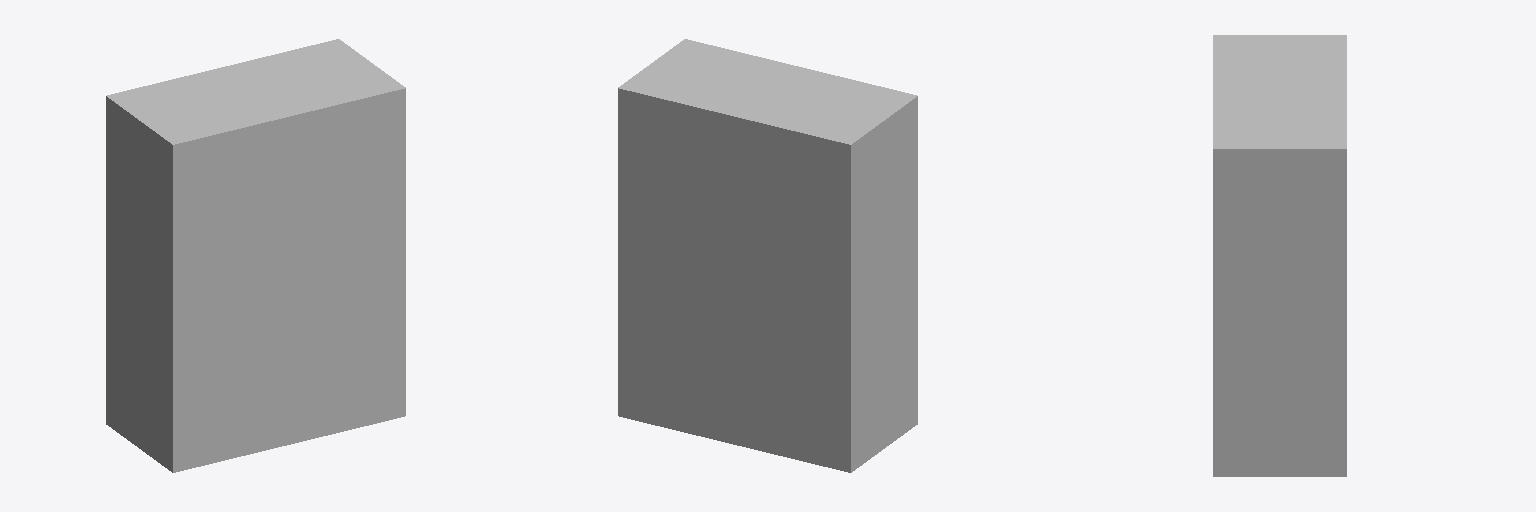
File: case_12.obj
The picture shows the model from 3 angles: view 1: azimuth 30°, elevation 25°; view 2: azimuth 150°, elevation 25°; view 3: azimuth 270°, elevation 25°; orthographic projection.
Visible parts, largest first — view 1: Untitled; view 2: Untitled; view 3: Untitled.
Boxes of the visible parts, x1,y1,x2,y2 form: Untitled: [106, 39, 405, 472]; Untitled: [618, 39, 917, 472]; Untitled: [1213, 35, 1346, 476].
Bounding box in the file's own units: 6.4 × 8.6 × 3.2.